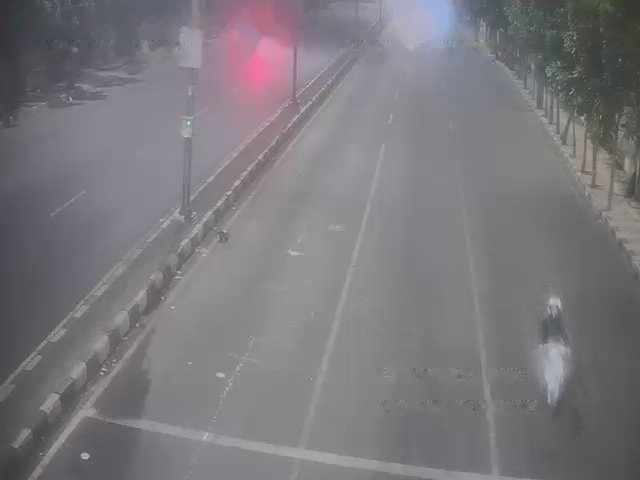Motor: (532, 338, 575, 410)
